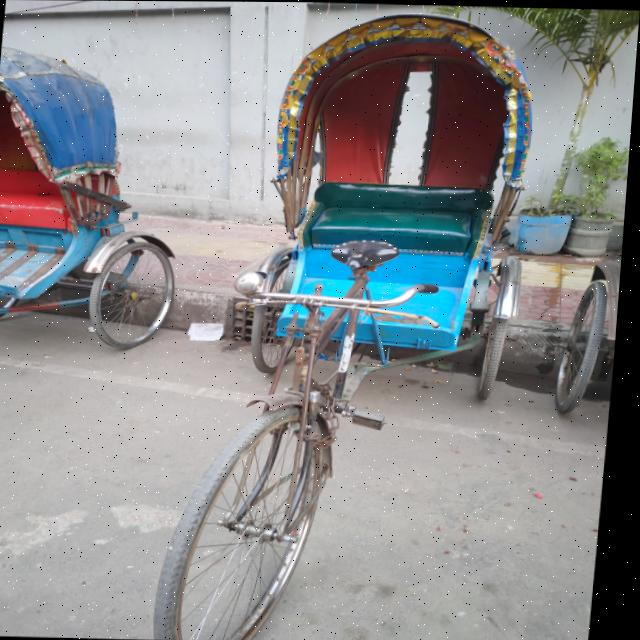rikshaw: (170, 7, 532, 640)
